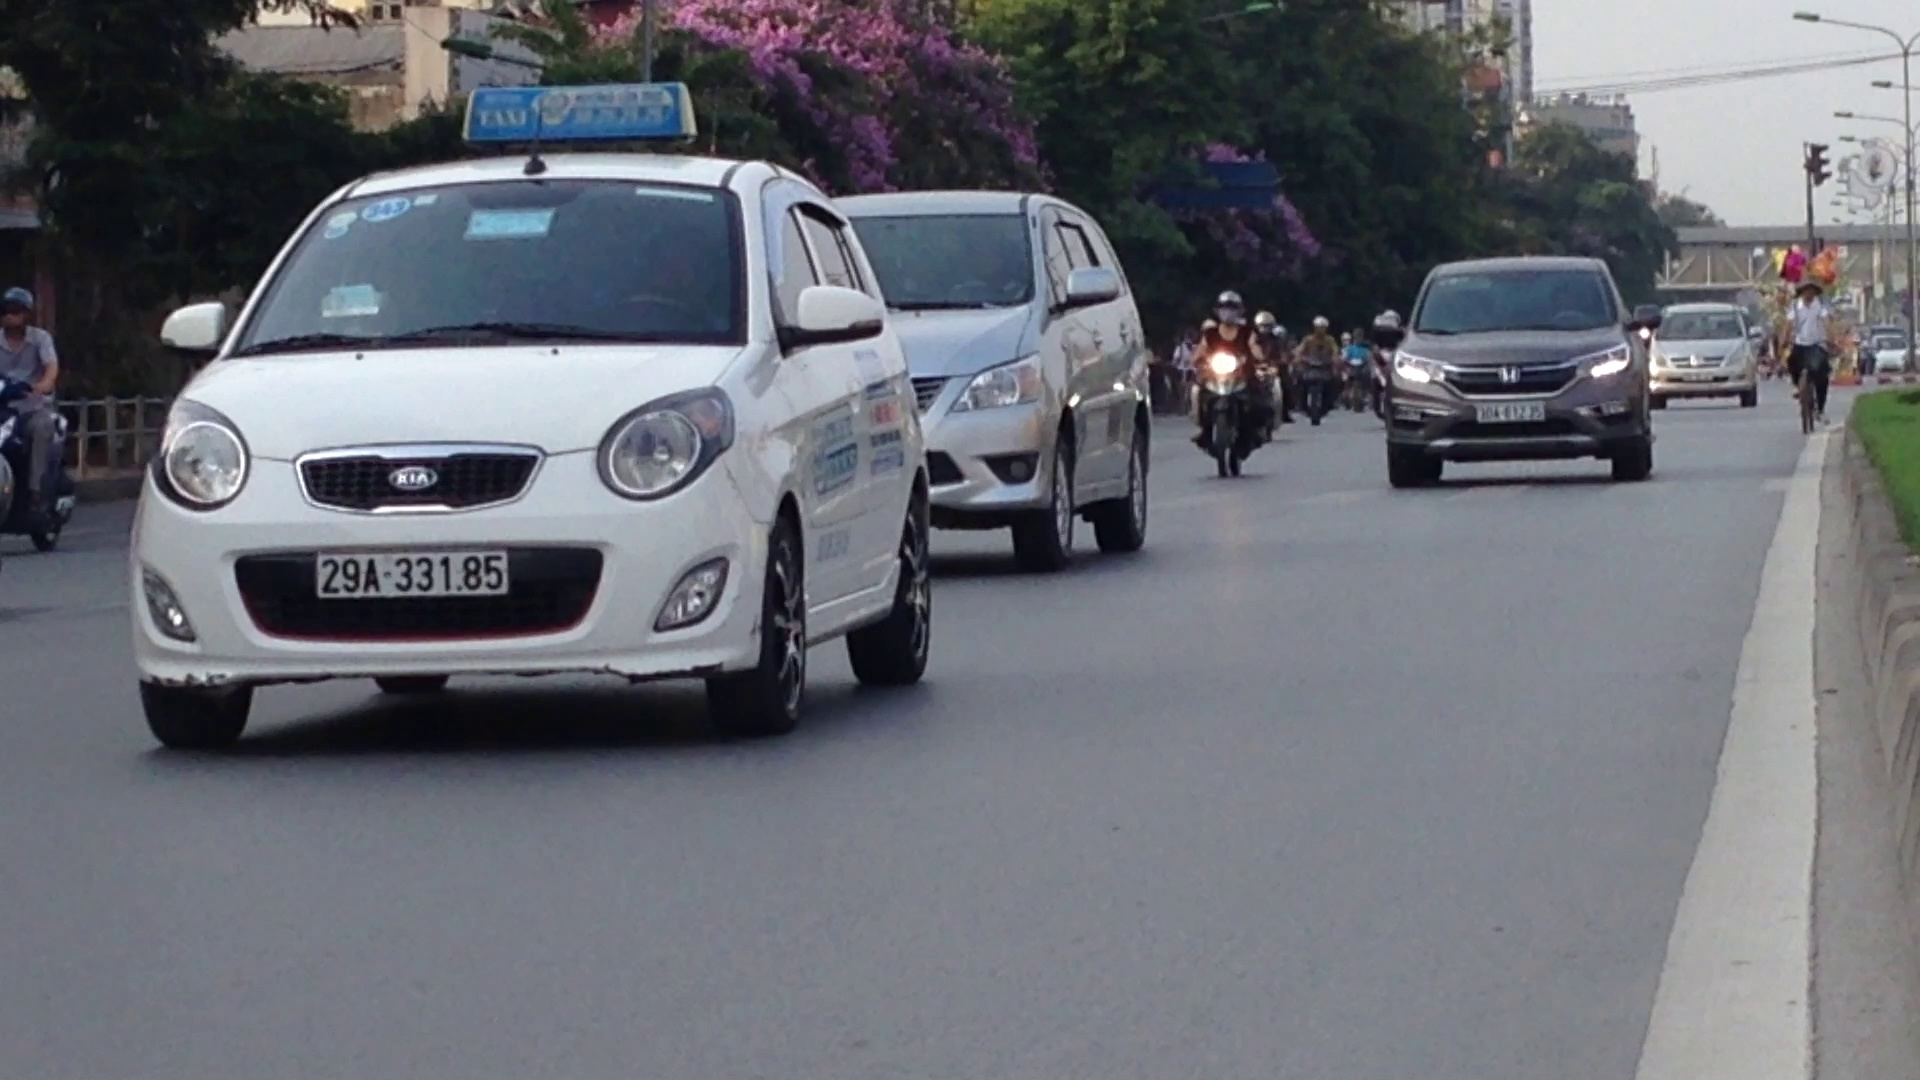person: (311, 545, 514, 599), (1474, 398, 1549, 424)
